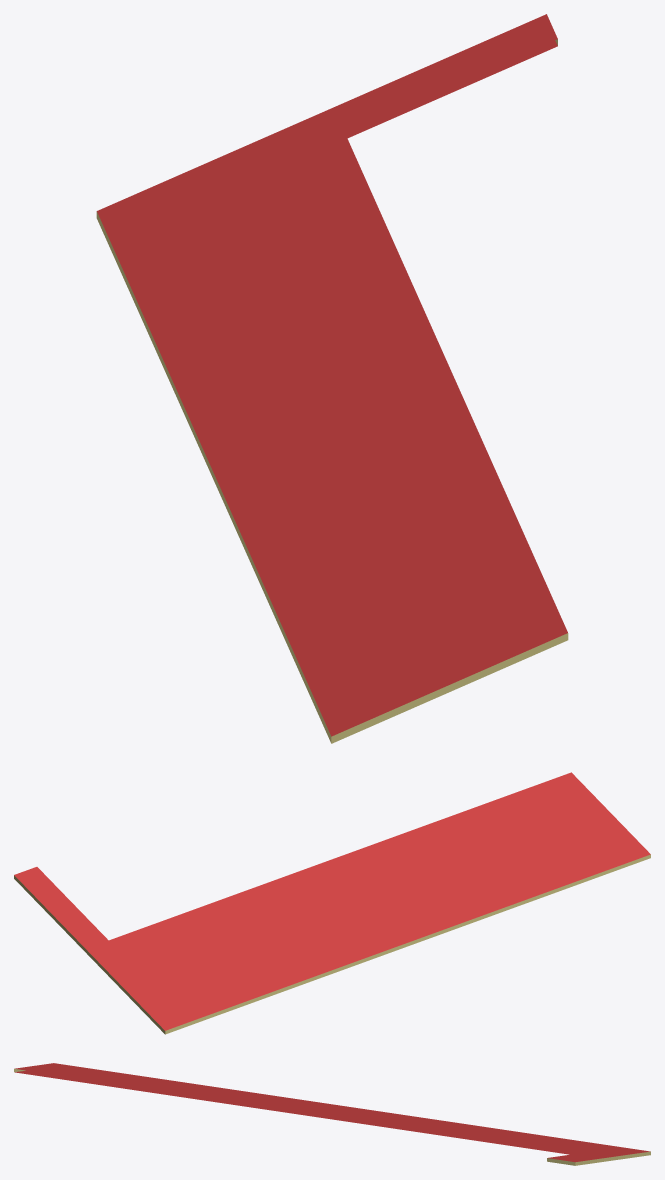
The picture shows the model from 3 angles, top to bottom: view 1: azimuth 30°, elevation 25°; view 2: azimuth 150°, elevation 25°; view 3: azimuth 270°, elevation 25°; orthographic projection. The views are drawn at different scales.
Size of the model in its own units: 10.58 by 15.84 by 2.31.
